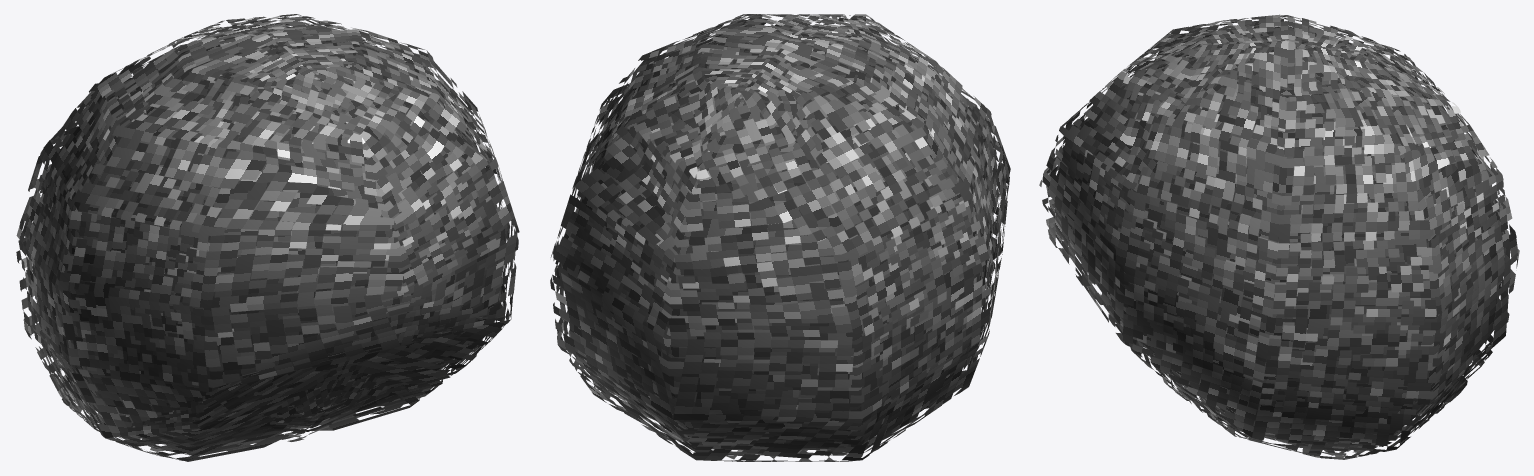
Rendered from f_head018.glb.
3 renders of one model, left to right at view 1: azimuth 30°, elevation 25°; view 2: azimuth 150°, elevation 25°; view 3: azimuth 270°, elevation 25°, orthographic. The views are drawn at different scales.
Size of the model in its own units: 39.44 by 36.04 by 40.63.
1 material, 1 textured.
